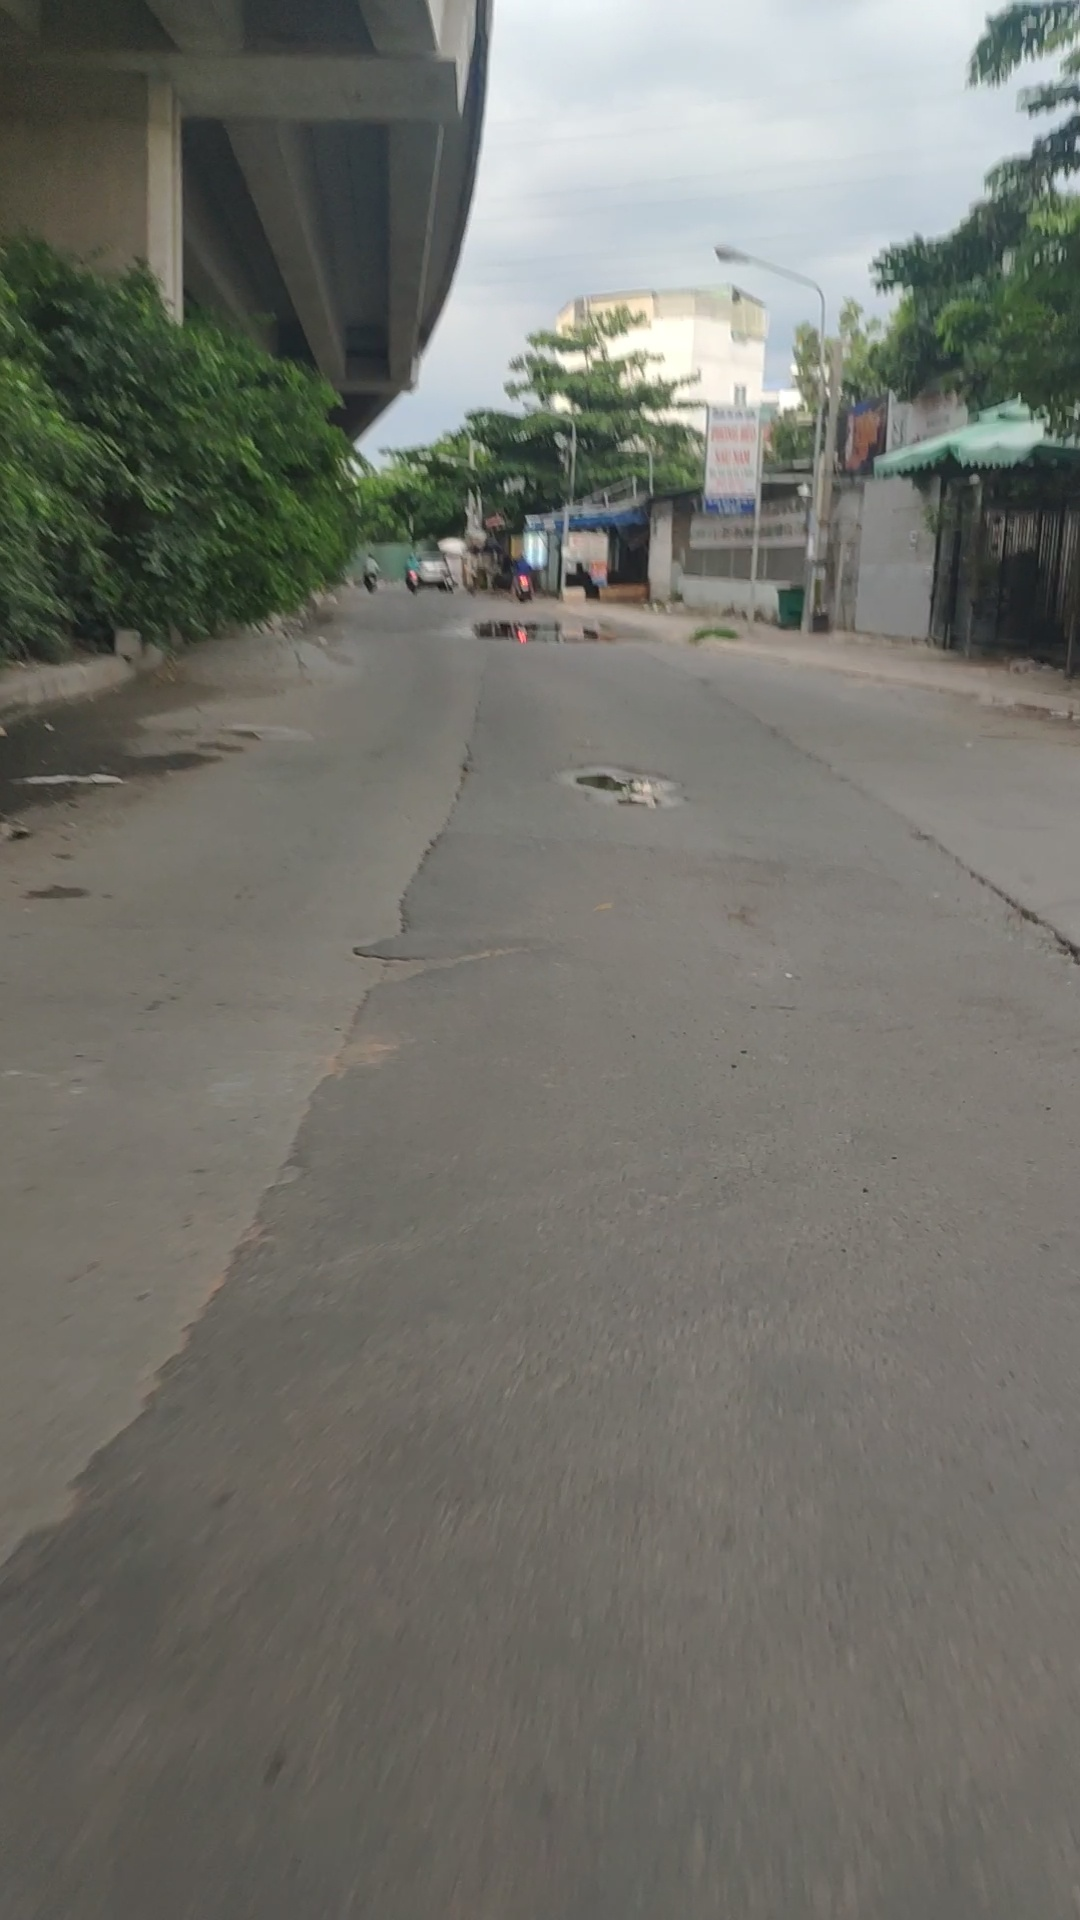hole: (554, 764, 692, 811), (451, 618, 621, 646)
